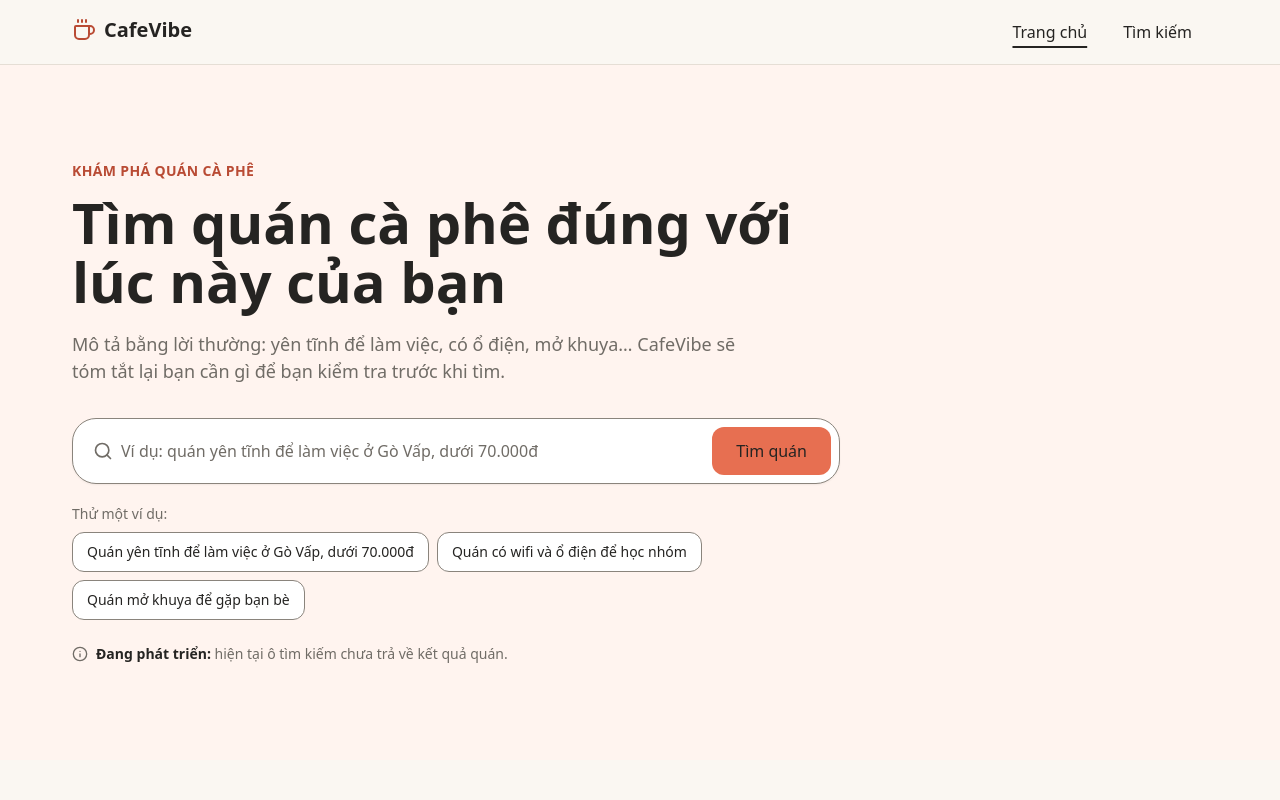
Test: landing page › example chips fill the search box without submitting
Click the button "Quán có wifi và ổ điện để học nhóm" at (569, 552), box [437, 532, 702, 572]
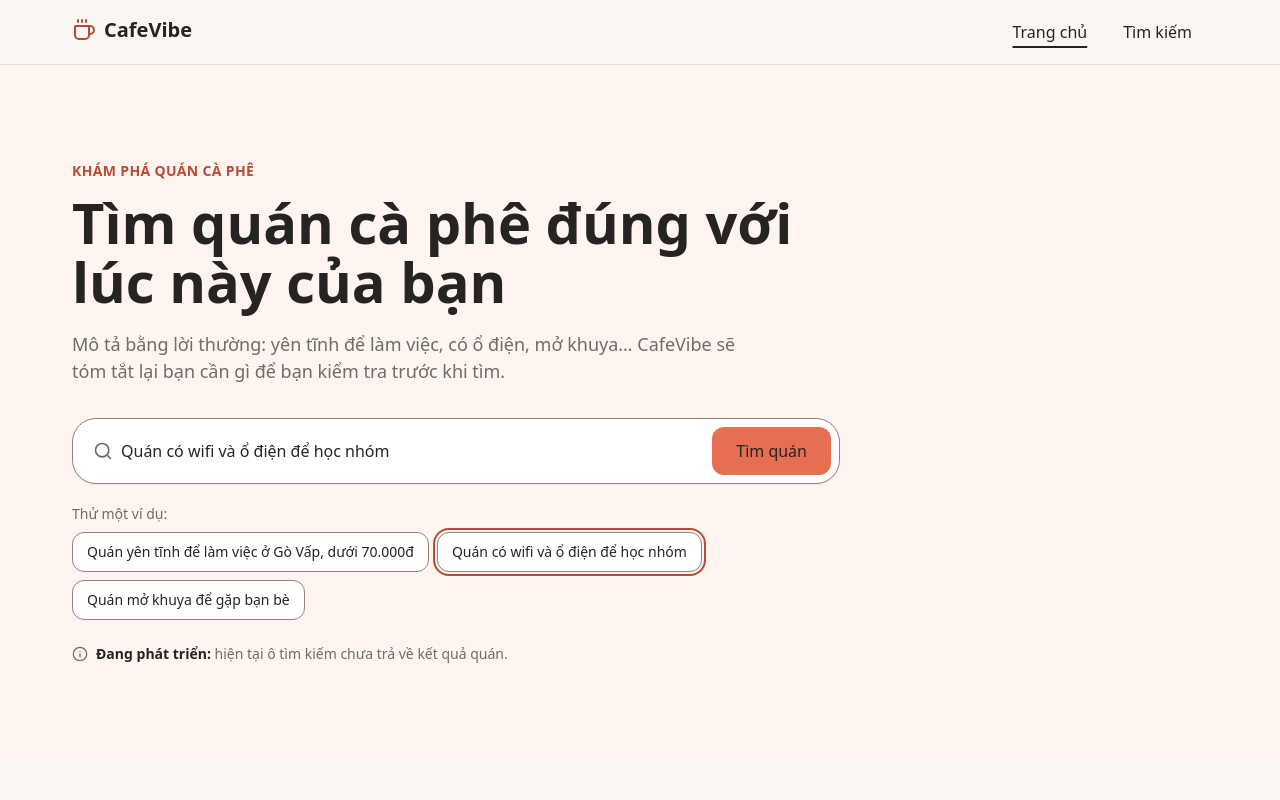
Expected: the search field holds "Quán có wifi và ổ điện để học nhóm", [121, 427, 692, 475]
